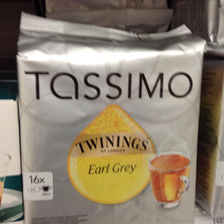coffee: (17, 10, 204, 224)
